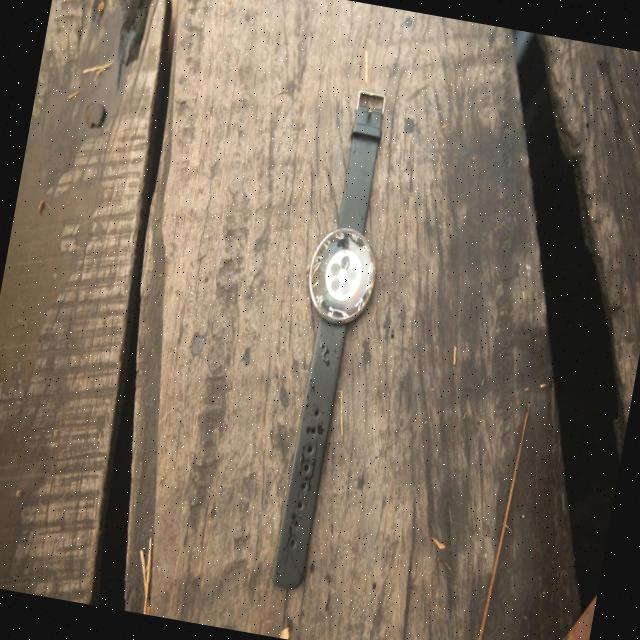Wrist watch: (254, 87, 408, 594)
